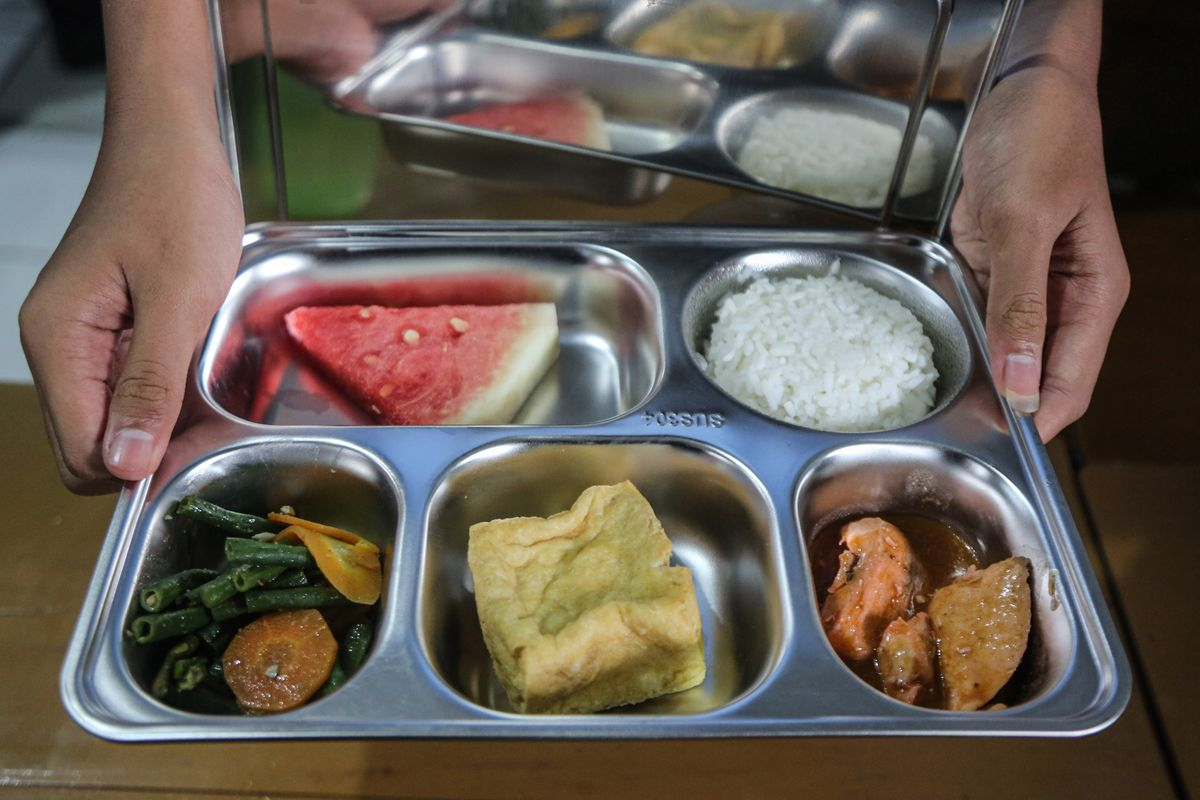buah_sayur_vitA: (202, 527, 341, 695), (328, 315, 532, 383)
daging: (852, 555, 988, 663)
kacang_legume: (490, 537, 658, 667)
makanan_berpati: (750, 307, 902, 395)
